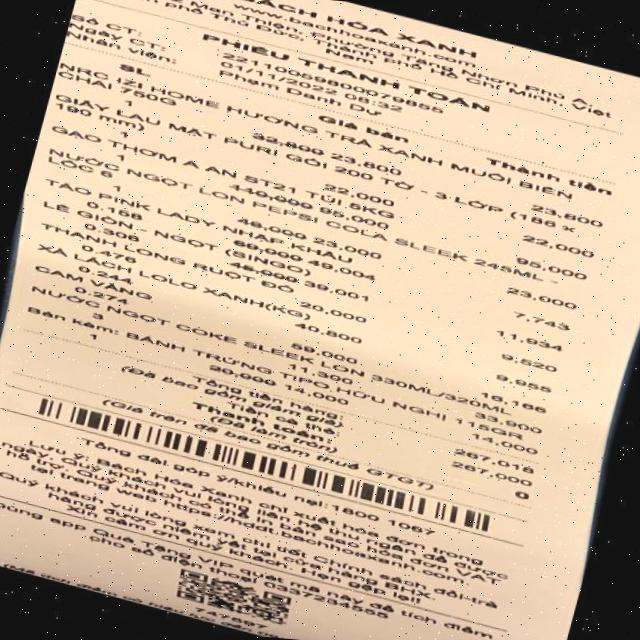Date: (202, 52, 348, 101)
Store_Name: (198, 0, 499, 69)
amount_number: (428, 438, 554, 482)
label_total: (182, 370, 350, 422)
